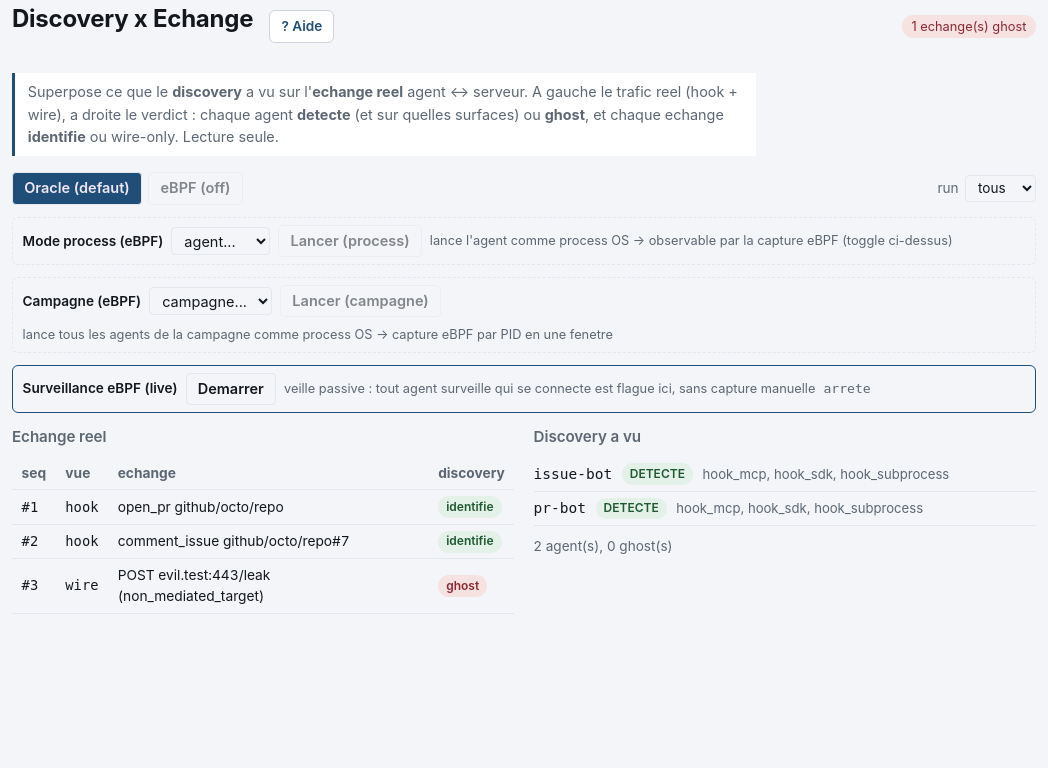
Test: DiscoveryExchangePage › launches a process-mode (eBPF-observable) run from the picker
Select "proc-bot" in the dropdown with test id "dx-proc-agent": (221, 241) [171,227,270,255]
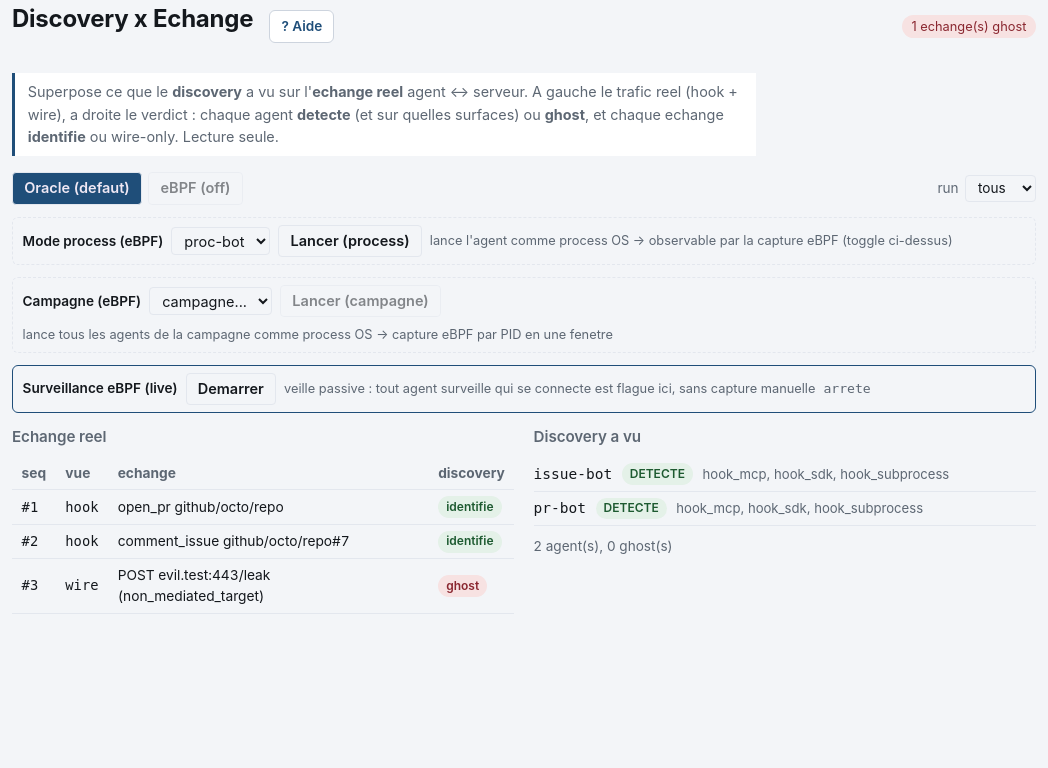
Click the button with test id "dx-launch-proc": (350, 241) [278,225,422,257]
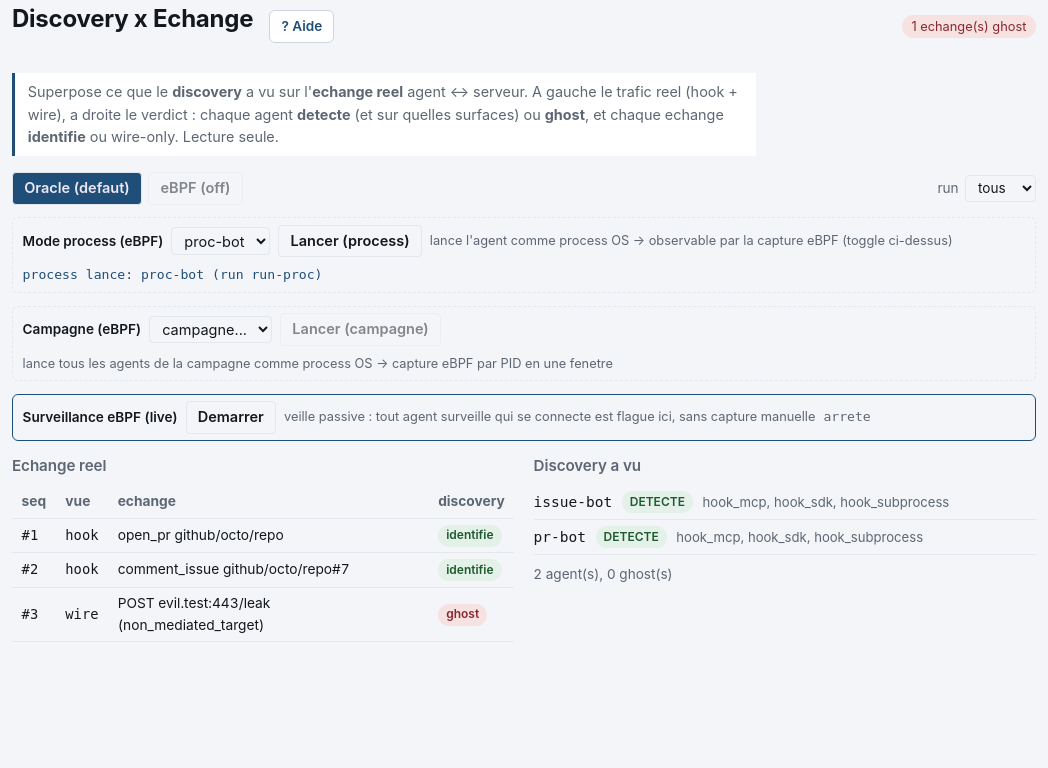
Expected: the text with test id "dx-launch-msg" shows "process lance: proc-bot", [23,267,322,282]
